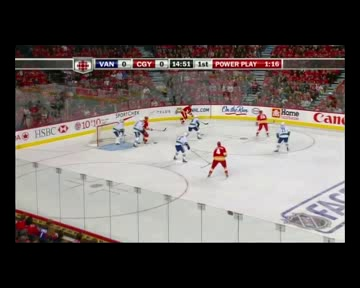normal: (247, 107, 300, 158), (108, 112, 162, 148), (201, 138, 235, 180)
